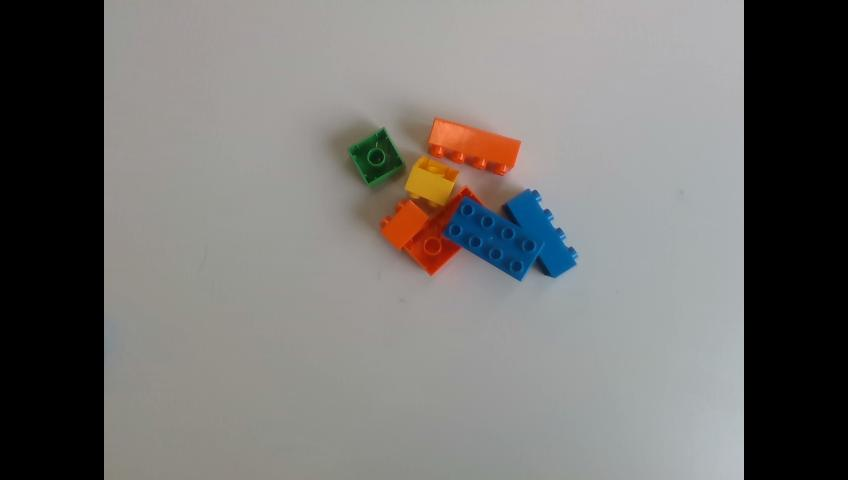2x2_green: (345, 125, 406, 189)
2x2_orange: (379, 201, 432, 251)
2x2_yellow: (405, 154, 461, 209)
4x2_blue: (441, 197, 546, 282), (501, 189, 579, 278)
4x2_orange: (403, 185, 485, 279), (427, 118, 521, 177)
